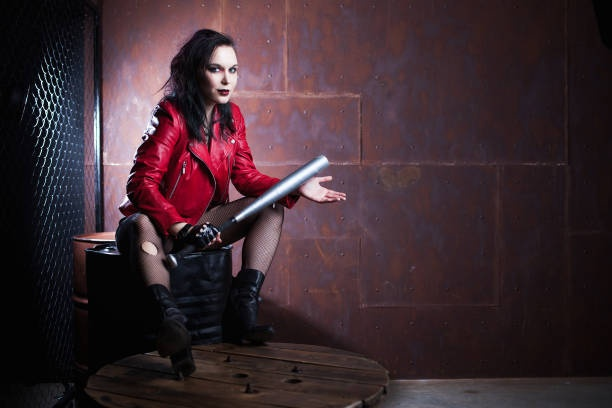bita: (167, 153, 330, 265)
